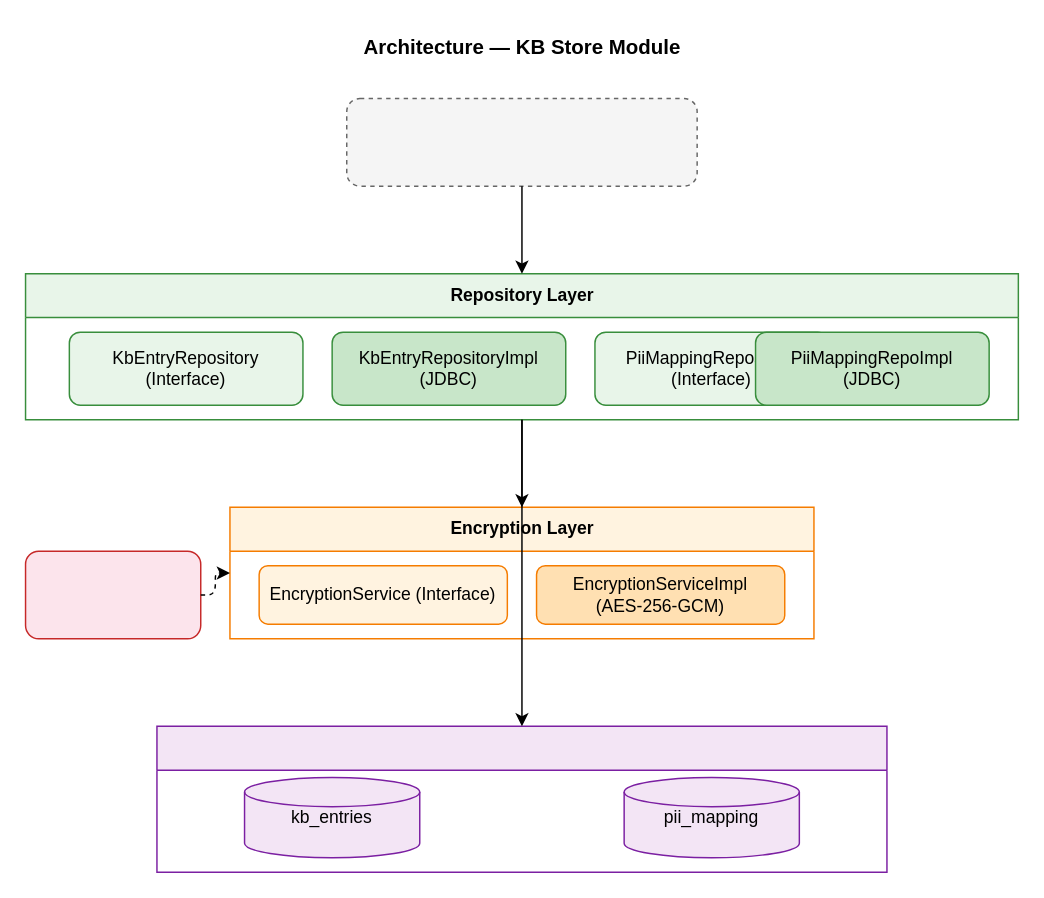
The diagram is 1044 pixels wide and 898 high, and some of its shapes have lost their labels. The box of each missing label's shape, as (x1, y1, x2, y2) in pixels:
Callers (Sync Service, Query Service): (345, 97, 697, 186)
Database Layer: (155, 725, 887, 872)
KbStoreConfig (encryption_key, batch_size): (24, 550, 201, 639)
